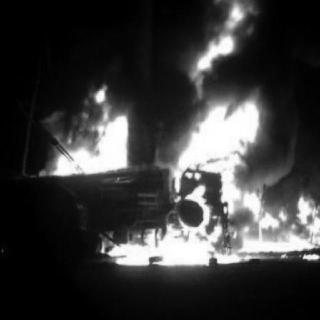Fire: (105, 99, 269, 269)
